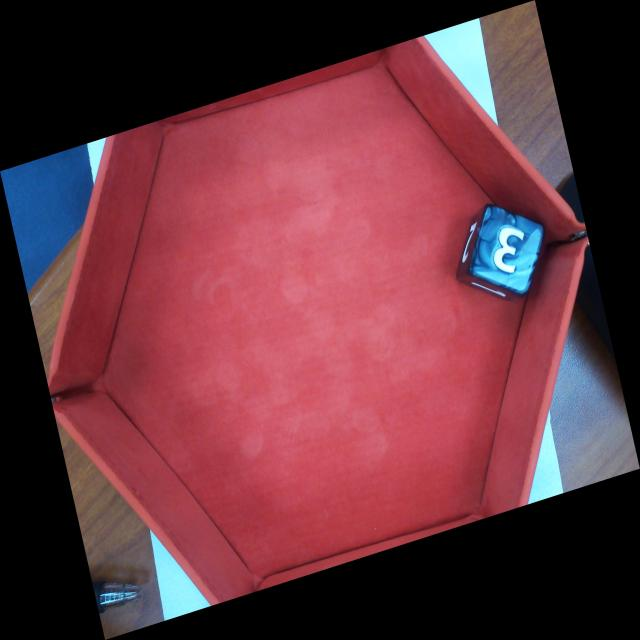dice: (466, 201, 544, 293)
